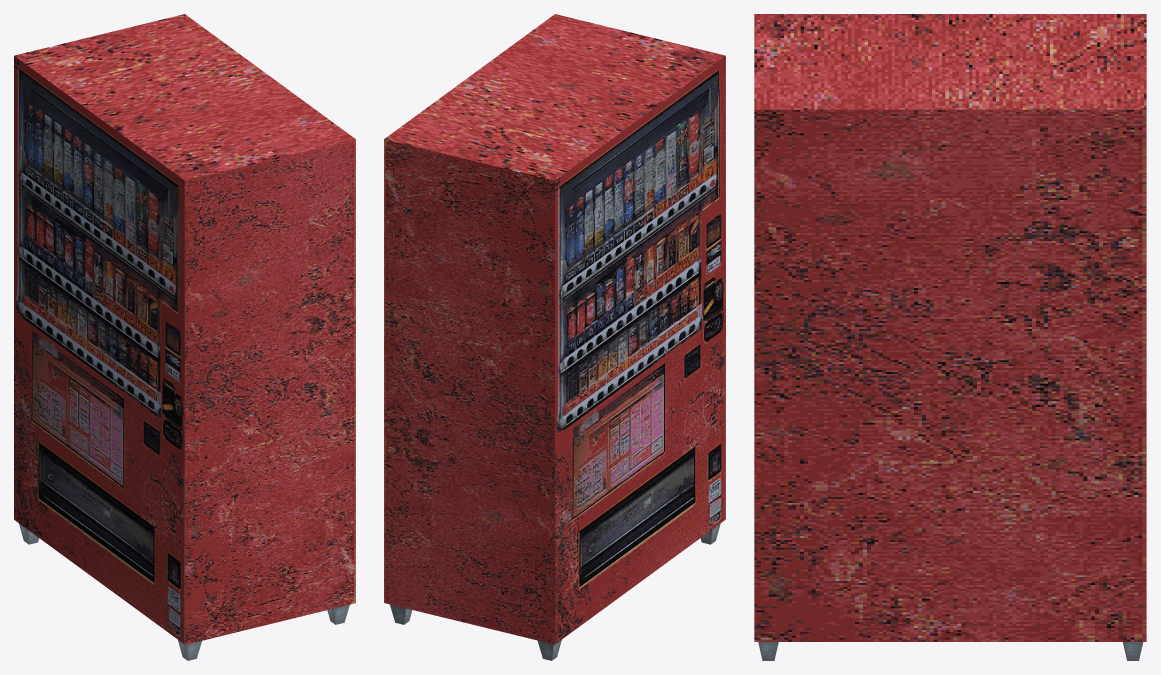
Rendered from vending-machine.glb.
The picture shows the model from 3 angles, left to right: view 1: azimuth 30°, elevation 25°; view 2: azimuth 150°, elevation 25°; view 3: azimuth 270°, elevation 25°; orthographic projection. The views are drawn at different scales.
Parts seen in each view (by area): view 1: pCube29; view 2: pCube29; view 3: pCube29.
Part boxes in pixels (x1,y1,x2,y2): pCube29: (14, 14, 355, 660); pCube29: (384, 14, 725, 660); pCube29: (754, 14, 1146, 660).
Bounding box in the file's own units: 0.0503 × 0.1363 × 0.0873.
1 material, 1 textured.
